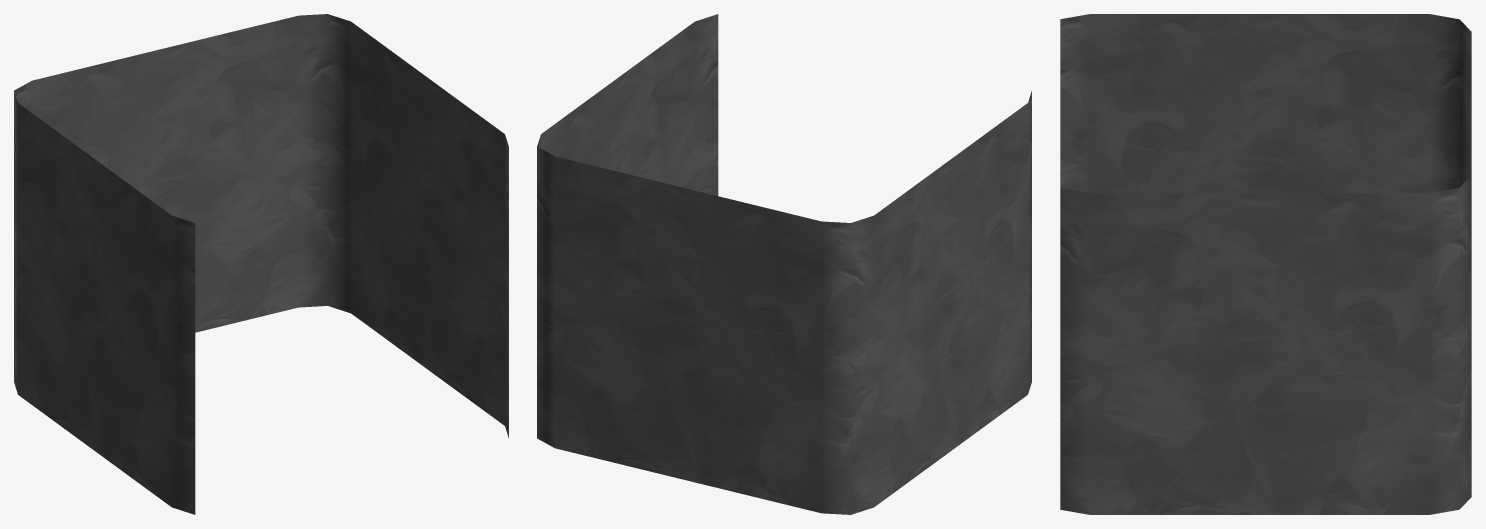
File: GrassWallClip.fbx
3 views of the same model, side by side, from view 1: azimuth 30°, elevation 25°; view 2: azimuth 150°, elevation 25°; view 3: azimuth 270°, elevation 25° (orthographic). The views are drawn at different scales.
Visible parts, largest first — view 1: GrassWallModuleClip; view 2: GrassWallModuleClip; view 3: GrassWallModuleClip.
Boxes of the visible parts, x1=… form: GrassWallModuleClip: x1=14, y1=14, x2=508, y2=514; GrassWallModuleClip: x1=537, y1=14, x2=1031, y2=514; GrassWallModuleClip: x1=1060, y1=14, x2=1471, y2=514.
Bounding box in the file's own units: 93.6 × 78.37 × 90.86.
